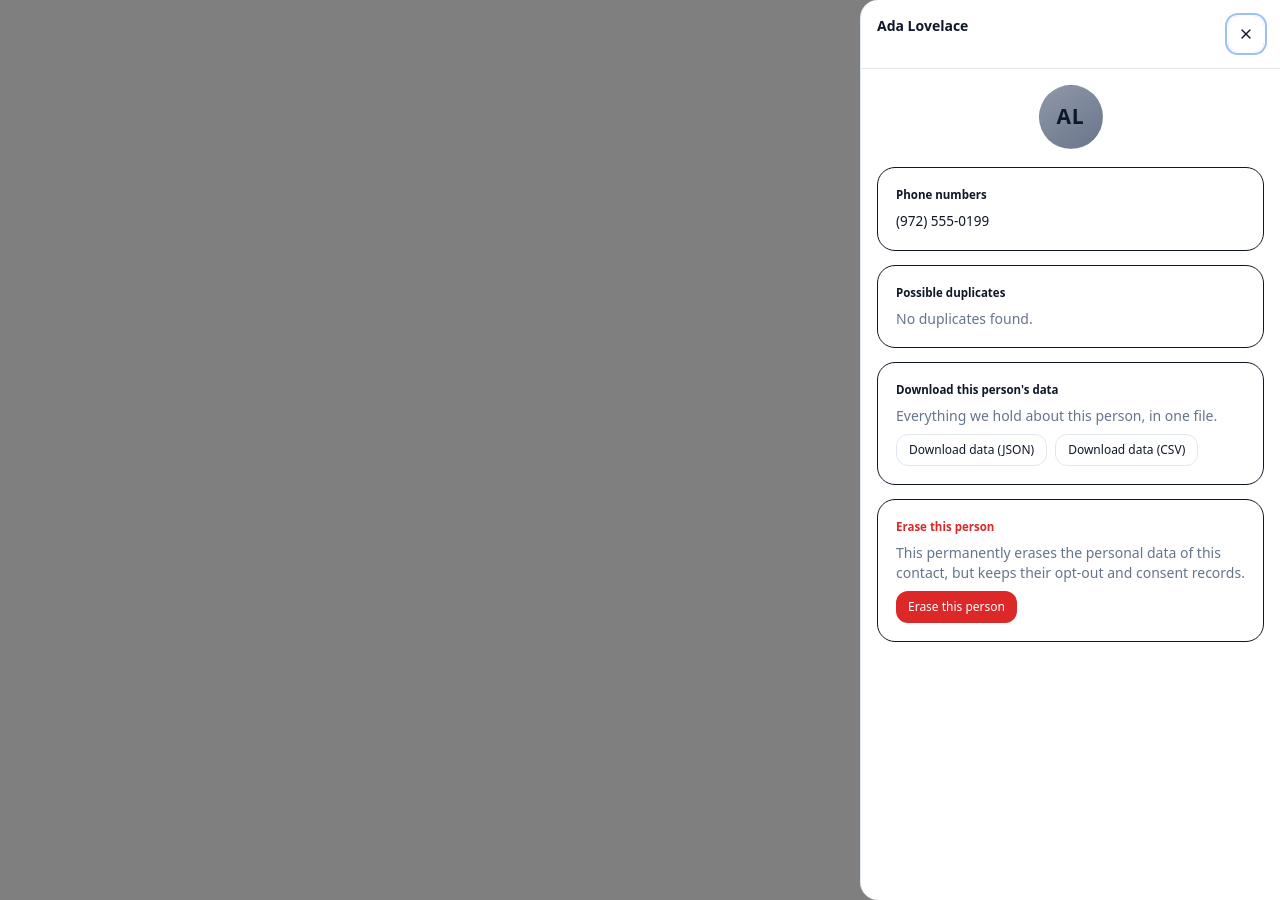
Test: P27 contact drawer › spells out what erasure destroys and keeps, and needs the word typed
Step 1. Click the button "Erase this person" → (956, 607), box [896,591,1017,623]
(page scrolled)
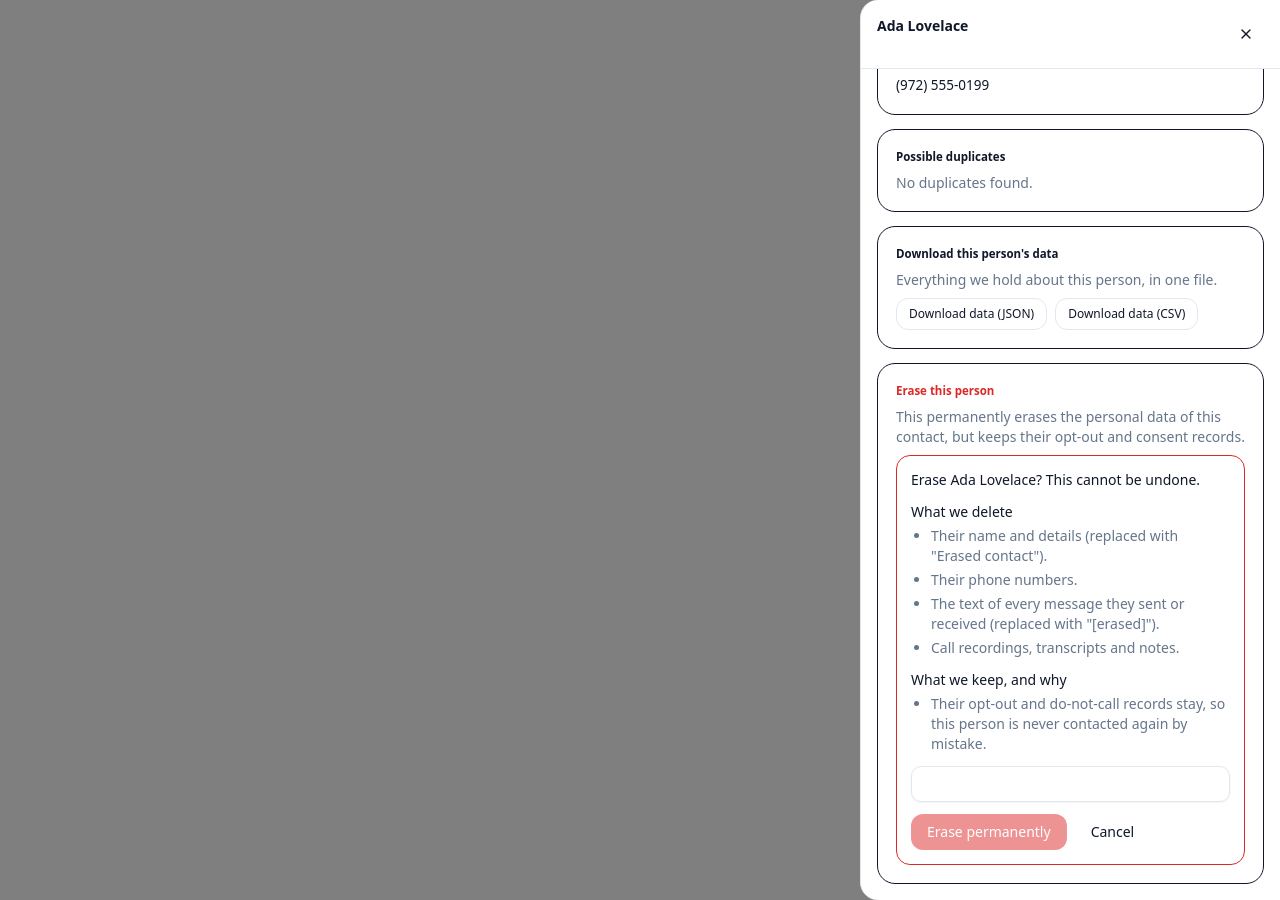
expect the heading "Erase Ada Lovelace? This cannot be undone." is shown: met, box [911,470,1230,490]
expect the list item "[erased]" is shown: met, box [931,594,1185,633]
expect the button "Erase permanently" is disabled: met, box [911,814,1067,850]
Step 2. Type "ERASE" into the field named "Type ERASE to confirm" → (1070, 784), box [911,766,1230,802]
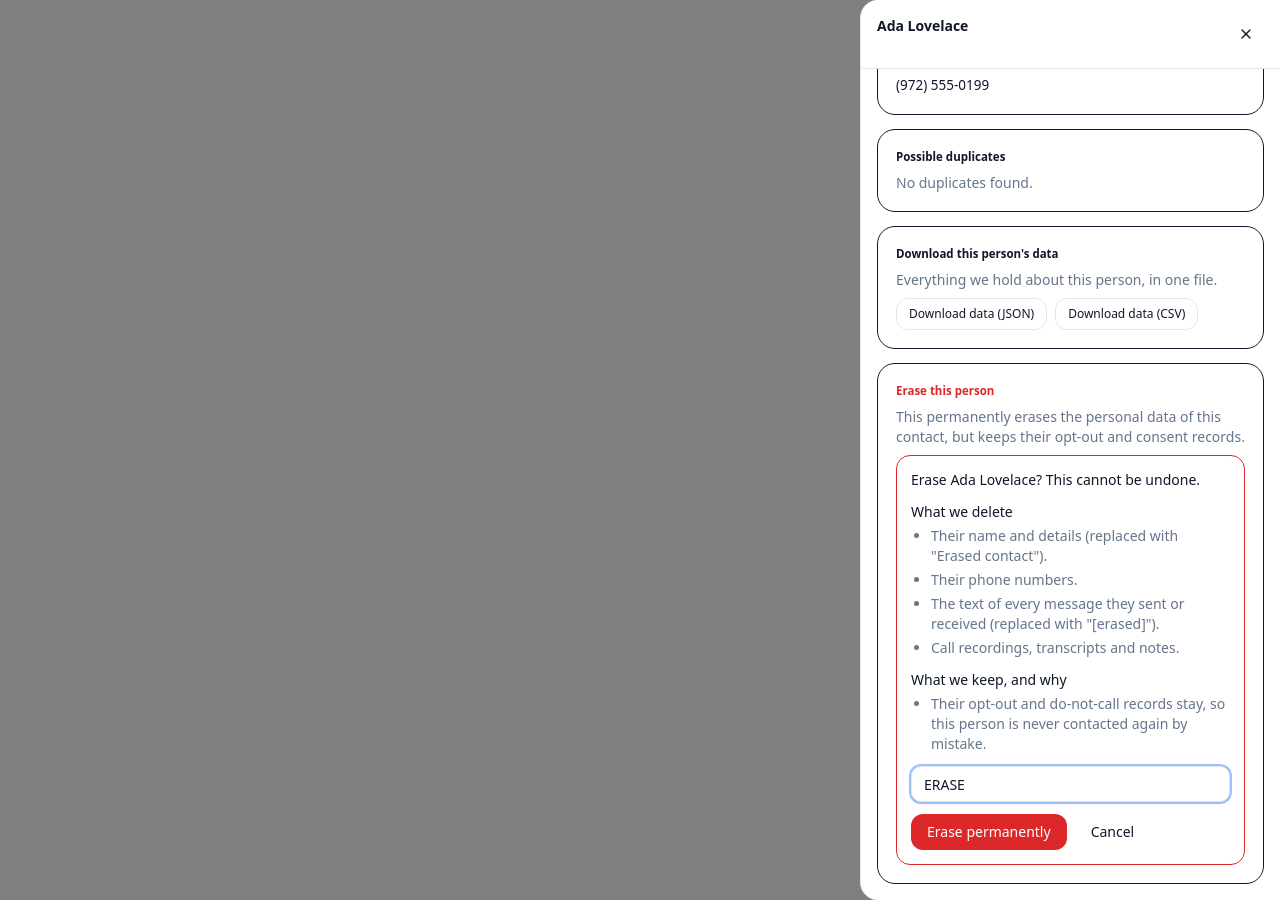
expect the button "Erase permanently" is enabled: met, box [911,814,1067,850]
